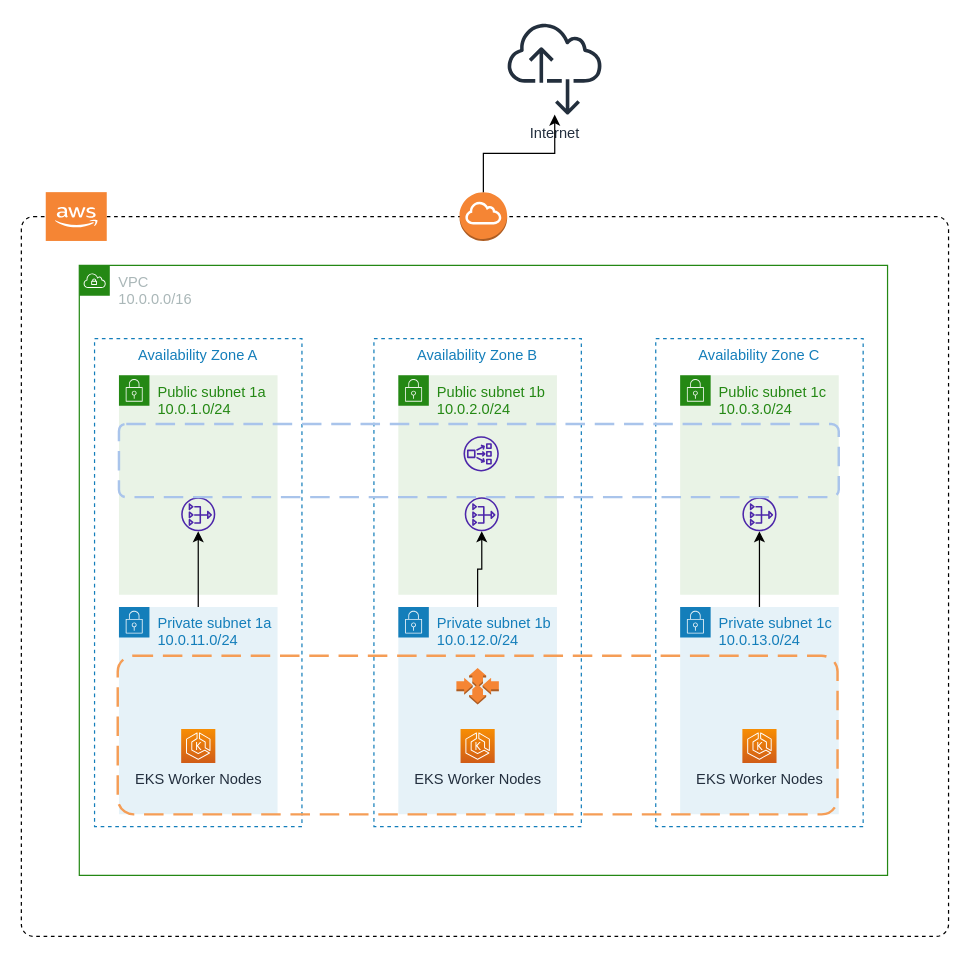
This 970x958 diagram has some shape labels left out. Here are the shapes that lost their labels. From the top down, the centre of each, then its label:
At (482,216): "Internet Gateway".
At (480,453): "Load Balancer (Ingress)".
At (198,514): "NAT Gateway 1a".
At (481,514): "NAT Gateway 1b".
At (759,514): "NAT Gateway 1c".
At (477,686): "ASG".
